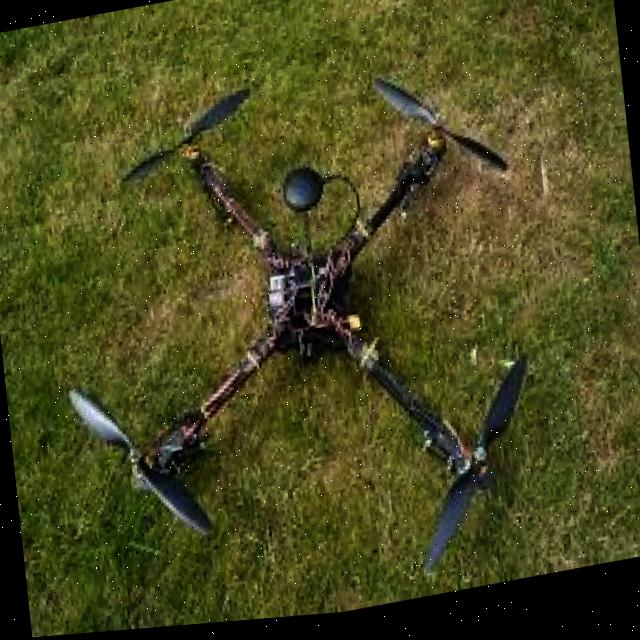drone: (40, 48, 546, 637)
